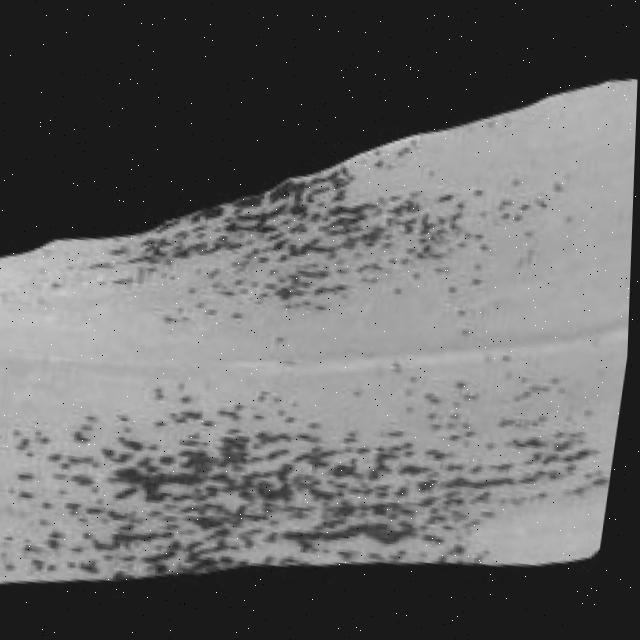mite: (72, 408, 107, 448), (20, 465, 44, 485)
spots: (0, 1, 638, 640)
